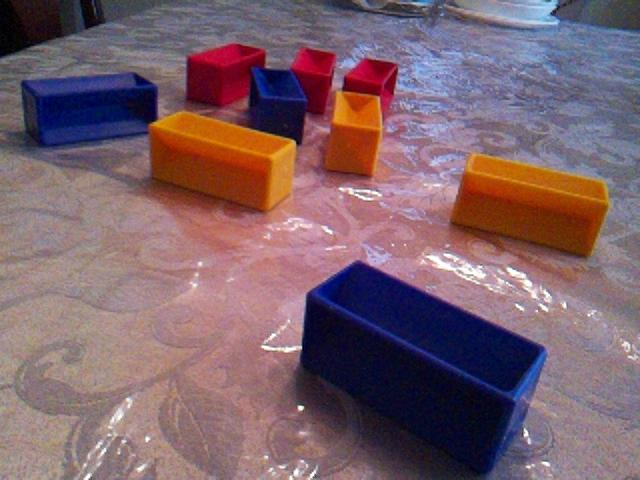blue: (299, 258, 549, 475), (20, 69, 160, 147), (247, 64, 309, 145)
red: (185, 41, 267, 107), (342, 55, 400, 117), (290, 45, 337, 115)
yellow: (449, 151, 611, 258), (147, 109, 297, 213), (325, 90, 383, 177)
